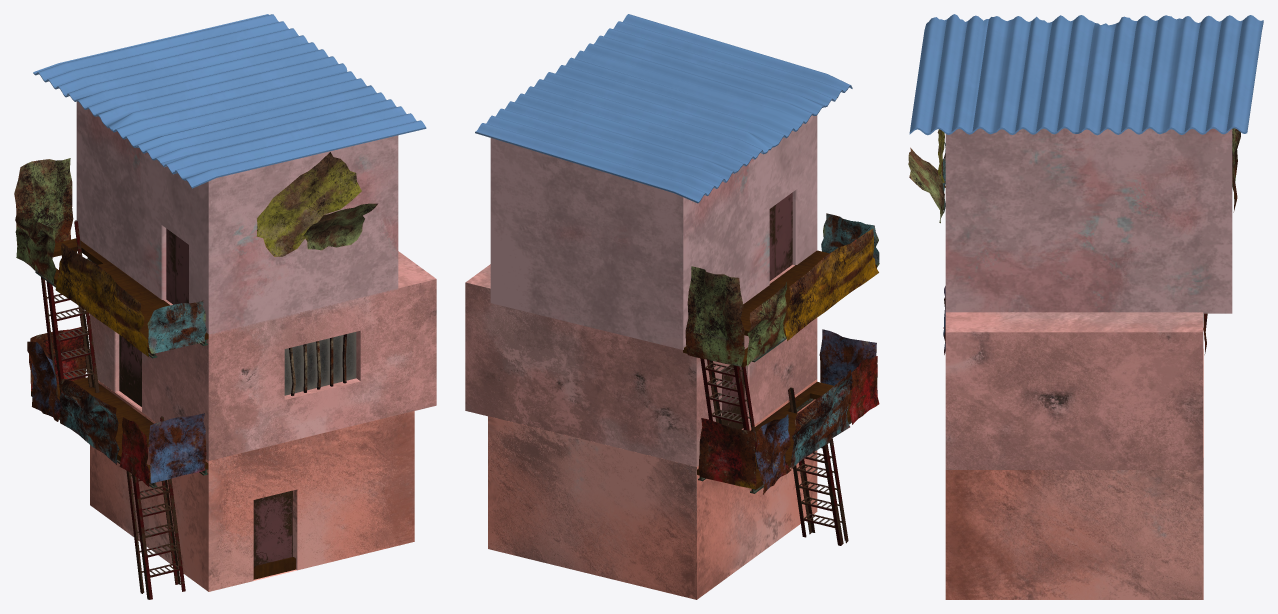
File: Slum House 3 Floor.fbx
3 renders of one model, left to right at view 1: azimuth 30°, elevation 25°; view 2: azimuth 150°, elevation 25°; view 3: azimuth 270°, elevation 25°, orthographic. The views are drawn at different scales.
Visible parts, largest first — view 1: polySurface60; view 2: polySurface60; view 3: polySurface60.
Boxes of the visible parts, <box> form: polySurface60: <box>14,14,436,599</box>; polySurface60: <box>465,14,879,599</box>; polySurface60: <box>908,14,1263,599</box>.
Size of the model in its own units: 141 by 135 by 200.
